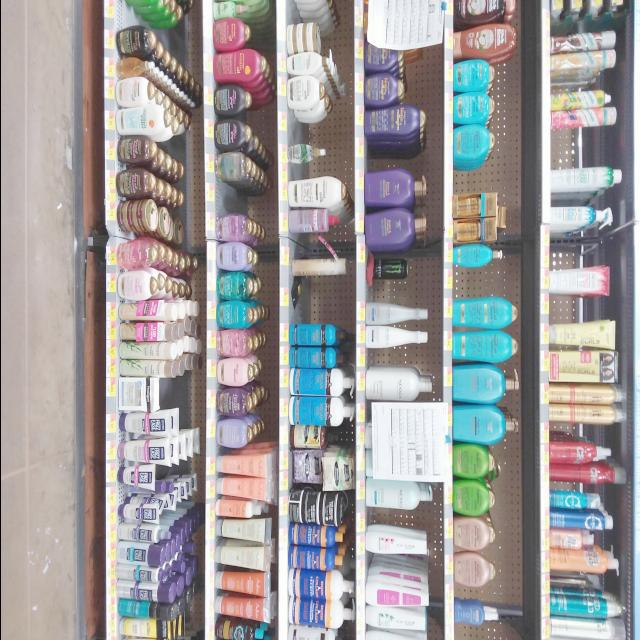empty_space: (367, 141, 414, 169), (306, 282, 340, 318), (549, 131, 579, 169), (454, 166, 491, 192), (455, 269, 491, 295), (551, 297, 589, 319), (553, 245, 583, 269), (289, 121, 320, 143), (162, 375, 188, 401), (116, 7, 144, 25)
